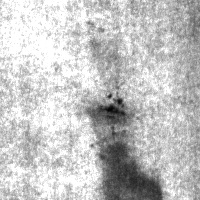inclusion: (100, 91, 128, 128)
patches: (97, 139, 164, 199)
